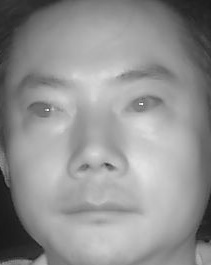eye: (122, 92, 168, 118), (25, 98, 67, 123)
mouth: (63, 187, 142, 232)
